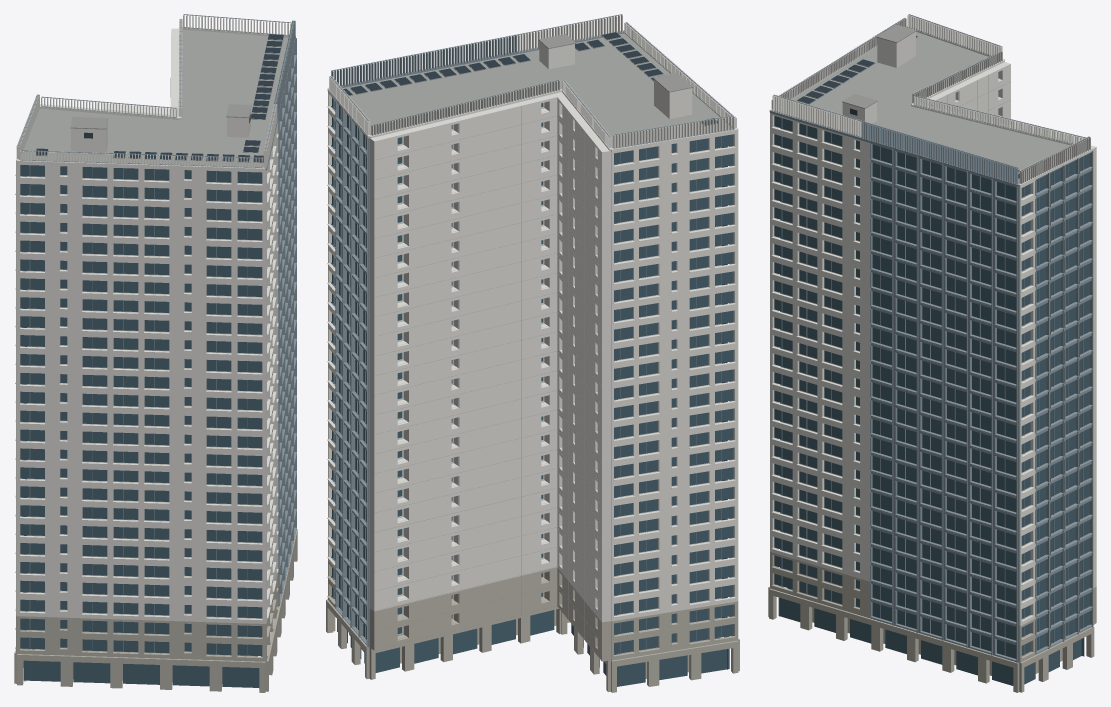
The model's file is bespoke-maple-xi-103.glb.
The picture shows the model from 3 angles, left to right: view 1: azimuth 30°, elevation 25°; view 2: azimuth 150°, elevation 25°; view 3: azimuth 270°, elevation 25°; orthographic projection. The views are drawn at different scales.
Parts seen in each view (by area): view 1: Maple103_numbered_plan_inset_body, Maple103_e0_end_glass, Maple103_numbered_plan_roof, Maple103_e0_end_unequal_sash, Maple103_recessed_stone_lobby, Maple103_PV_cells, Maple103_e1_cladding_joint, Maple103_PV_frame; view 2: Maple103_numbered_plan_inset_body, Maple103_e0_end_glass, Maple103_e0_end_unequal_sash, Maple103_recessed_stone_lobby, Maple103_numbered_plan_roof, Maple103_e1_cladding_joint, Maple103_PV_cells, Maple103_PV_frame; view 3: Maple103_e0_end_glass, Maple103_e0_end_unequal_sash, Maple103_numbered_plan_inset_body, Maple103_numbered_plan_roof, Maple103_recessed_stone_lobby, Maple103_e1_cladding_joint, Maple103_PV_cells.
Boxes of the visible parts, bbox=[...] form: Maple103_numbered_plan_inset_body: bbox=[15, 14, 291, 656]; Maple103_e0_end_glass: bbox=[20, 146, 272, 688]; Maple103_numbered_plan_roof: bbox=[19, 29, 288, 167]; Maple103_e0_end_unequal_sash: bbox=[18, 14, 296, 655]; Maple103_recessed_stone_lobby: bbox=[14, 529, 297, 692]; Maple103_PV_cells: bbox=[36, 34, 283, 162]; Maple103_e1_cladding_joint: bbox=[70, 78, 278, 493]; Maple103_PV_frame: bbox=[36, 34, 284, 162]; Maple103_numbered_plan_inset_body: bbox=[327, 14, 738, 653]; Maple103_e0_end_glass: bbox=[331, 98, 733, 686]; Maple103_e0_end_unequal_sash: bbox=[328, 14, 735, 653]; Maple103_recessed_stone_lobby: bbox=[326, 561, 739, 692]; Maple103_numbered_plan_roof: bbox=[342, 33, 732, 148]; Maple103_e1_cladding_joint: bbox=[374, 34, 693, 660]; Maple103_PV_cells: bbox=[343, 32, 717, 125]; Maple103_PV_frame: bbox=[347, 32, 717, 126]; Maple103_e0_end_glass: bbox=[774, 116, 1089, 685]; Maple103_e0_end_unequal_sash: bbox=[770, 14, 1093, 662]; Maple103_numbered_plan_inset_body: bbox=[769, 14, 1096, 640]; Maple103_numbered_plan_roof: bbox=[792, 31, 1070, 183]; Maple103_recessed_stone_lobby: bbox=[768, 548, 1096, 692]; Maple103_e1_cladding_joint: bbox=[842, 24, 1091, 660]; Maple103_PV_cells: bbox=[797, 36, 1019, 177].
Bounding box in the file's own units: 56.15 × 86.62 × 48.48.
